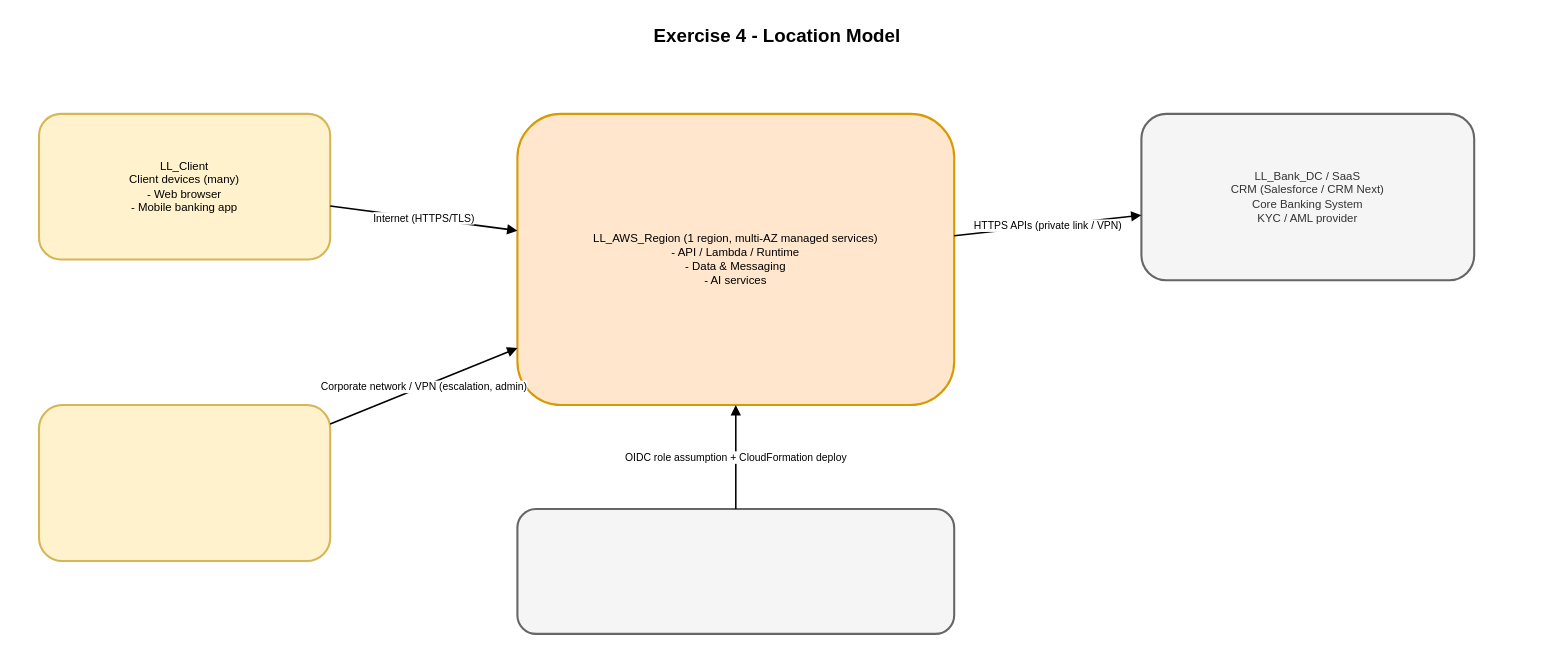
The diagram is 1554 pixels wide and 652 high, and some of its shapes have lost their labels. The shapes that lost their labels are listed below. From the top down, each one's centre as x and y in pixels, then its label:
pixel 184 483: LL_Bank_Internal (Human RMs, Compliance) - RM / compliance workstations - CRM UI
pixel 735 571: LL_CICD GitHub Actions (OIDC) Developer workstations
